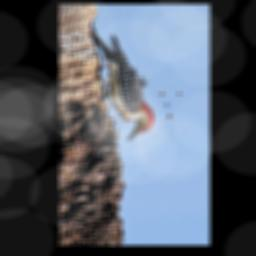Woodpecker: (89, 28, 155, 142)
